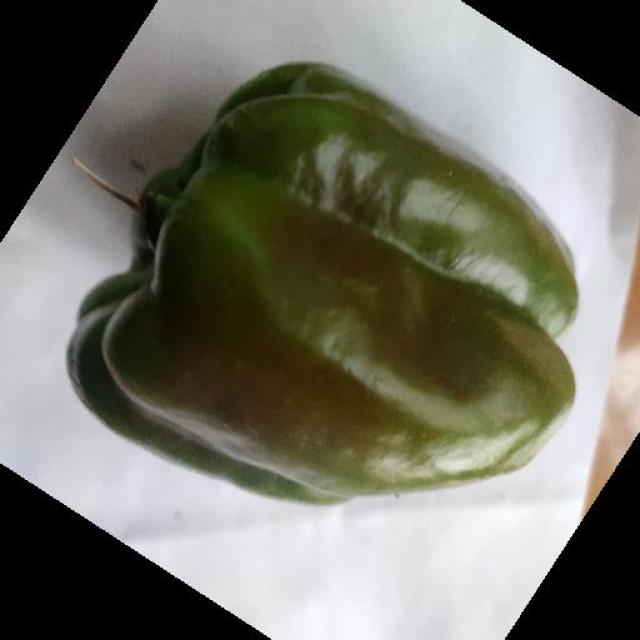Stale_Capsicum: (74, 46, 571, 513)
